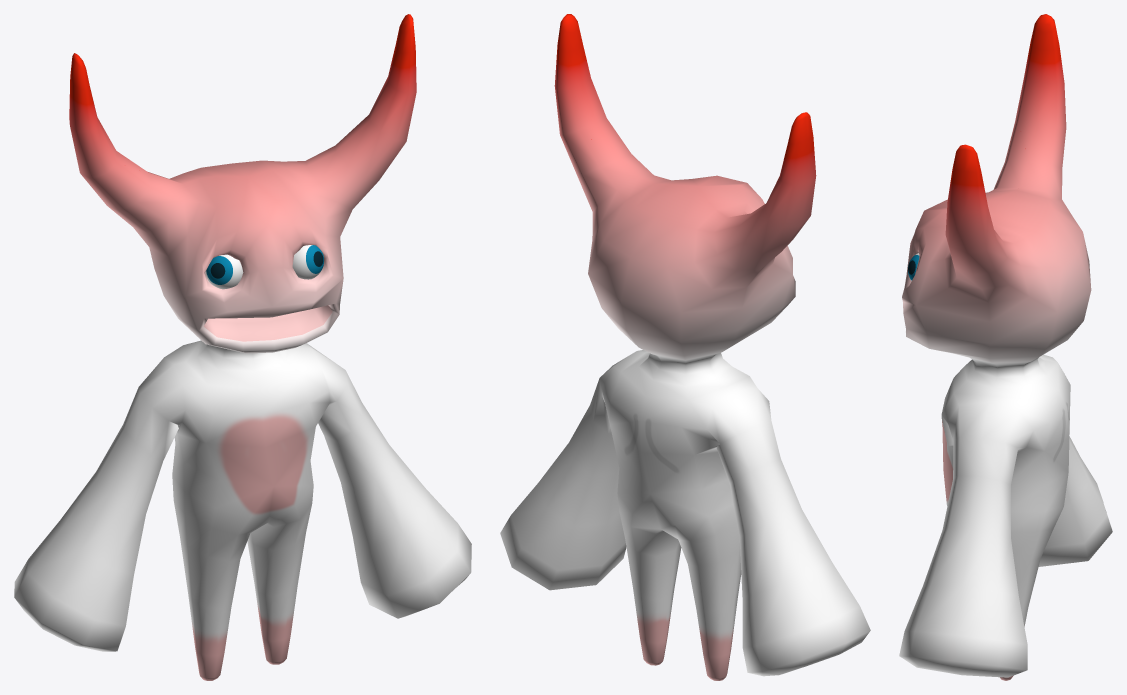
File: frame31.obj
3 renders of one model, left to right at view 1: azimuth 30°, elevation 25°; view 2: azimuth 150°, elevation 25°; view 3: azimuth 270°, elevation 25°, orthographic. The views are drawn at different scales.
Visible parts, largest first — view 1: Body, Right_Eye, Left_Eye; view 2: Body; view 3: Body.
Boxes of the visible parts, <box> form: Body: <box>14,14,471,680</box>; Right_Eye: <box>205,254,243,289</box>; Left_Eye: <box>292,245,323,279</box>; Body: <box>500,14,870,680</box>; Body: <box>899,14,1112,680</box>.
Size of the model in its own units: 13.71 by 20.98 by 6.95.
